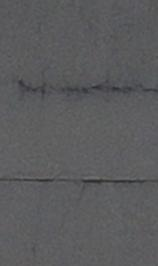termicas: (13, 59, 158, 120)
